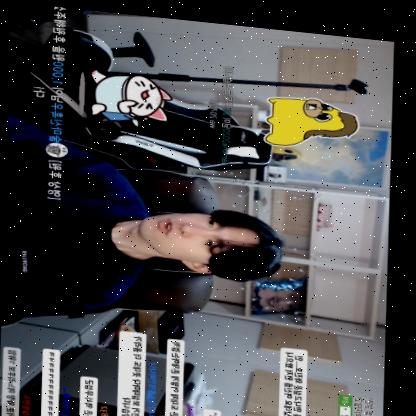donation: (31, 3, 176, 206), (208, 58, 362, 169)
streamer: (4, 112, 288, 341)
